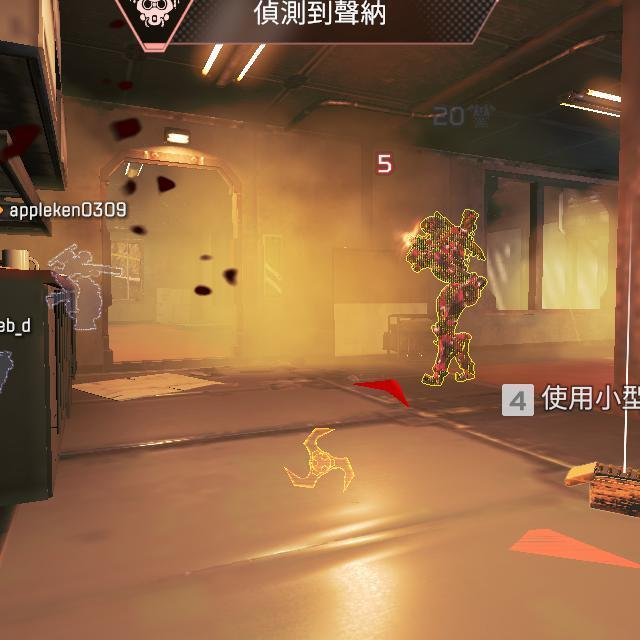avatar: (403, 207, 490, 390)
